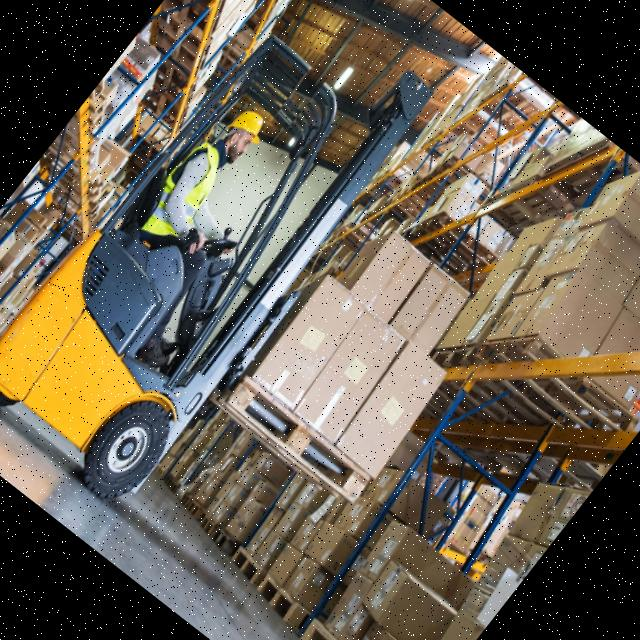Person: (70, 94, 322, 373)
